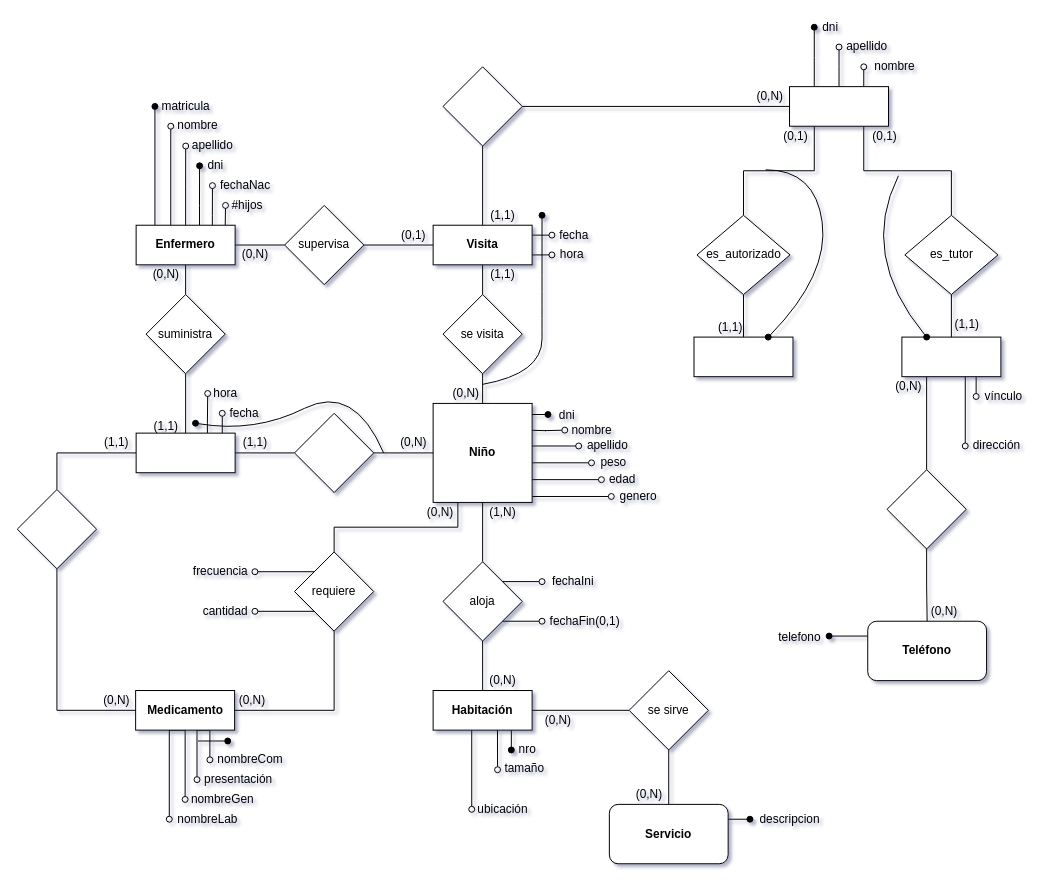
This 1050x887 diagram has some shape labels left out. The centre of each missing label's shape, as x and y in pixels:
Autorizado: the point at 743,356
contacto: the point at 926,509
realiza: the point at 482,106
se medica: the point at 334,452
se toma: the point at 56,529
Toma: the point at 185,452
Tutor: the point at 951,356
Visitante: the point at 839,106
